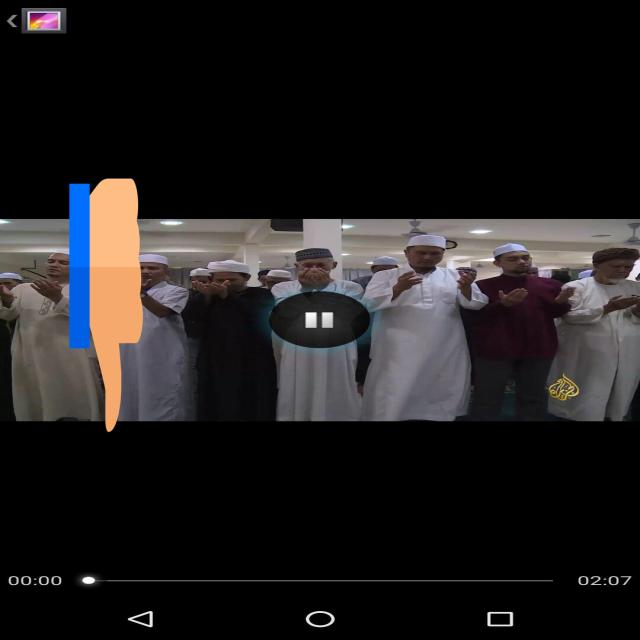obstruction: (69, 172, 143, 438)
